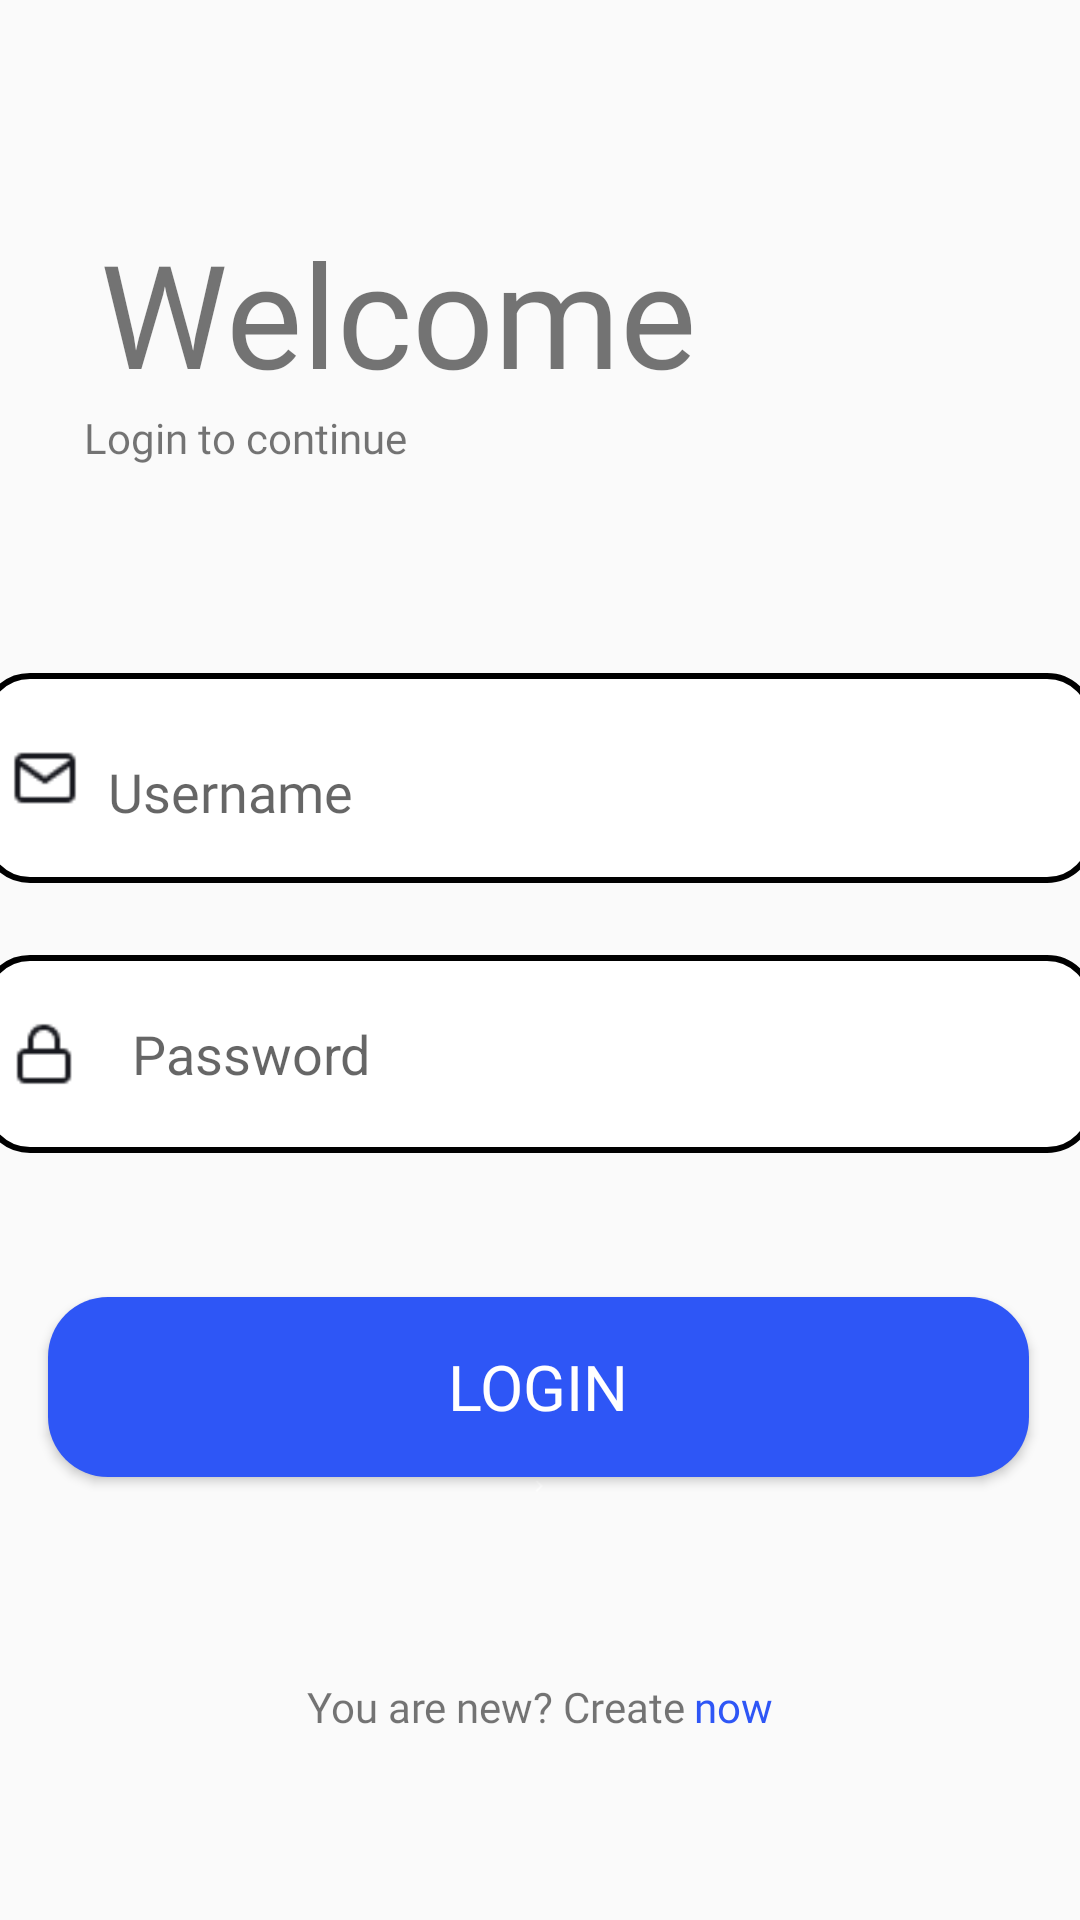

Screen size 1080px×1920px. Icon name, then its center in pixels as (x,y):
lock: (44,1054)
mail: (45,778)
